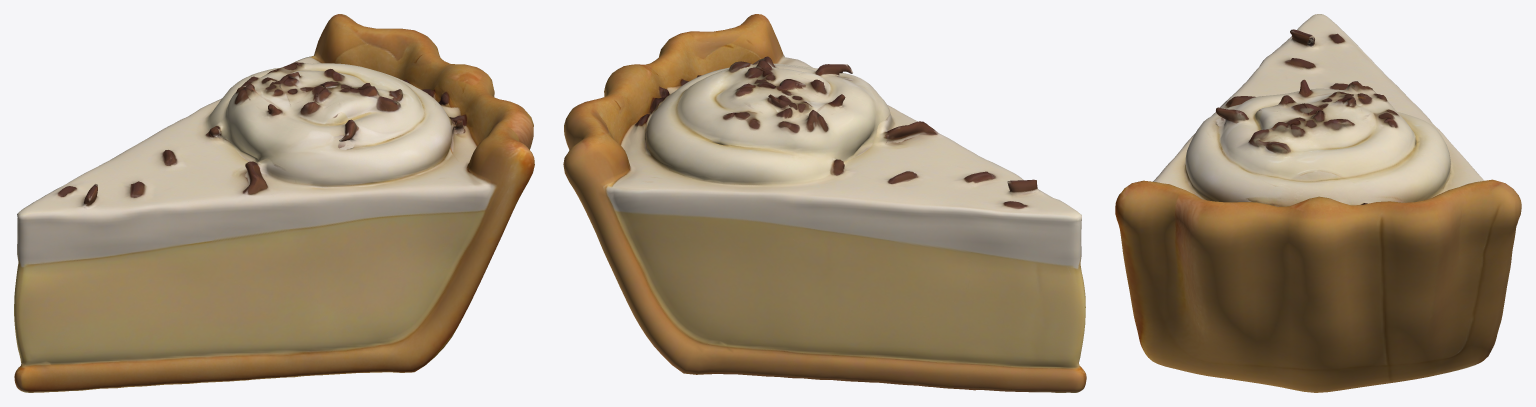
The model's file is cream_pie_slice_gag.glb.
3 views of the same model, side by side, from view 1: azimuth 30°, elevation 25°; view 2: azimuth 150°, elevation 25°; view 3: azimuth 270°, elevation 25° (orthographic). The views are drawn at different scales.
Visible parts, largest first — view 1: Object_4; view 2: Object_4; view 3: Object_4.
Part boxes in pixels (<box>): Object_4: <box>14,14,534,392</box>; Object_4: <box>563,14,1086,392</box>; Object_4: <box>1115,14,1521,392</box>.
Bounding box in the file's own units: 1.99 × 0.9616 × 1.41.
1 material, 1 textured.
